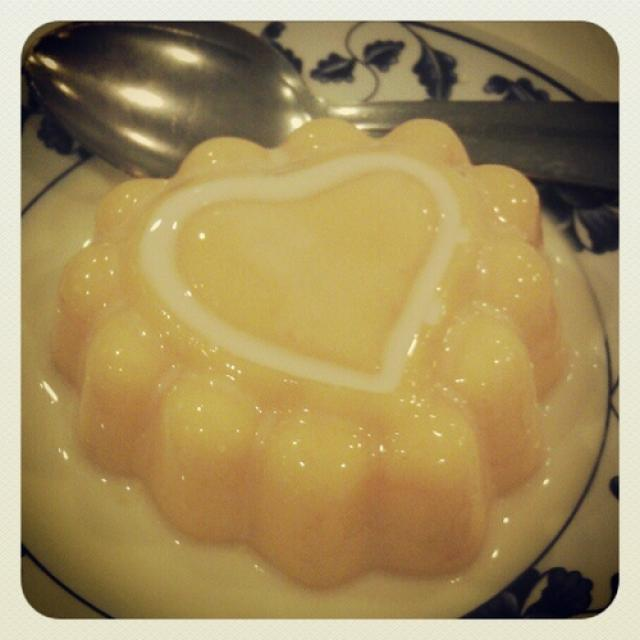蛋糕甜品: (27, 99, 608, 620)
